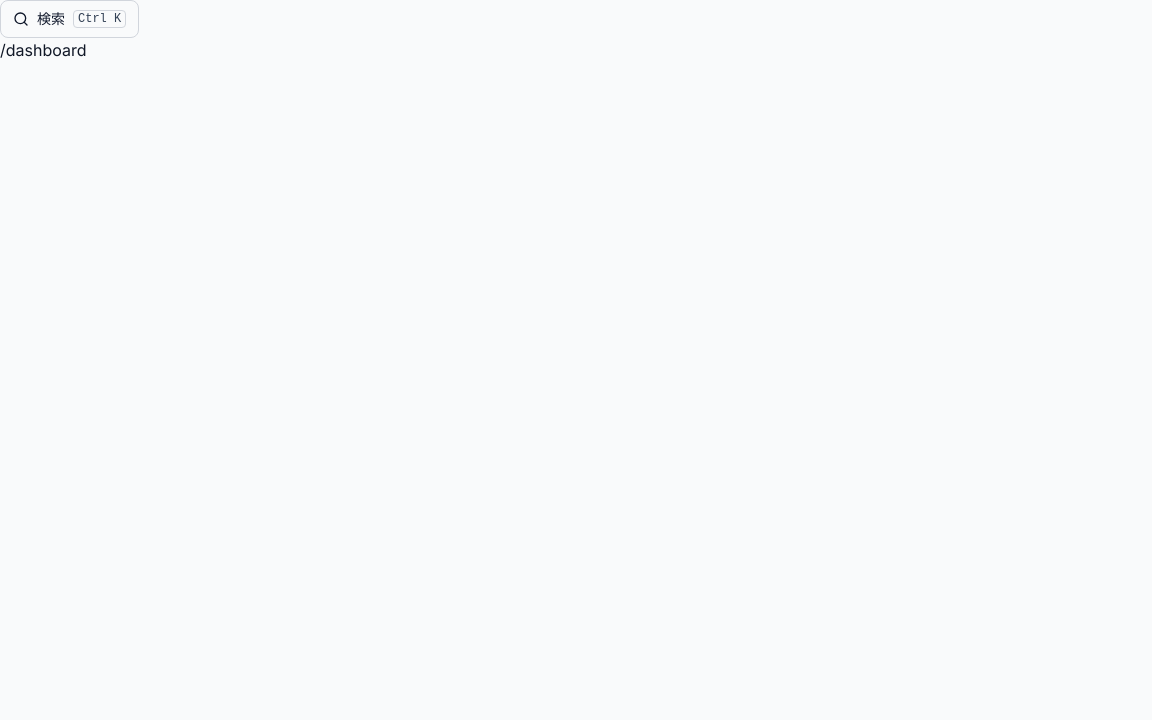
Scenario: CommandPalette (Gate C3) › プランの外では、すべての旅行を探す。失敗は案内する
This screenshot has width=1152, height=720.
Press k
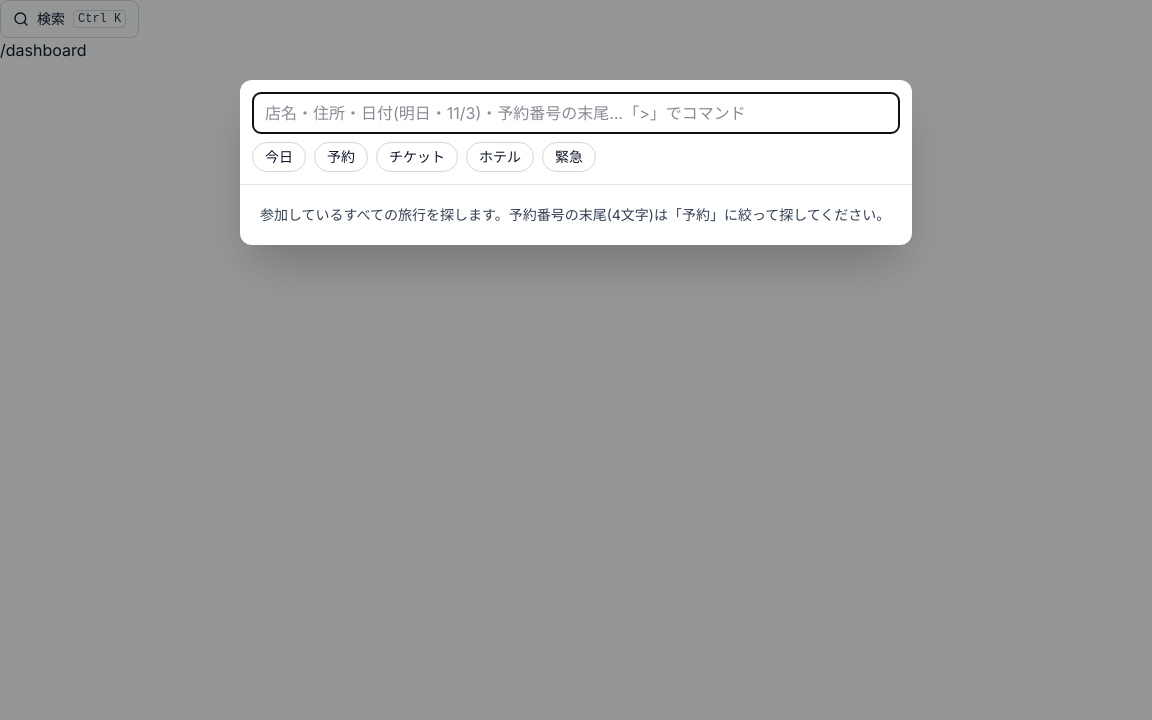
Type "京都" into the dropdown at (576, 113), box [252,92,900,134]
Wait 300 ms
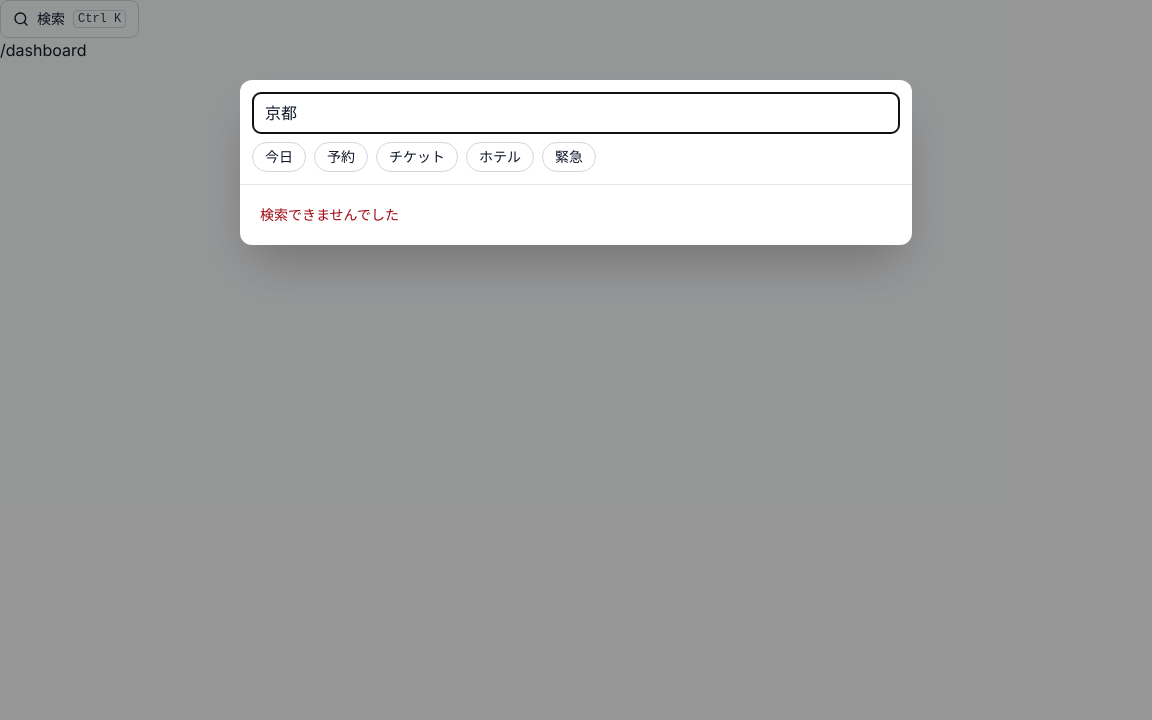
Now the message reads "検索できませんでした", box [260,206,399,223]
